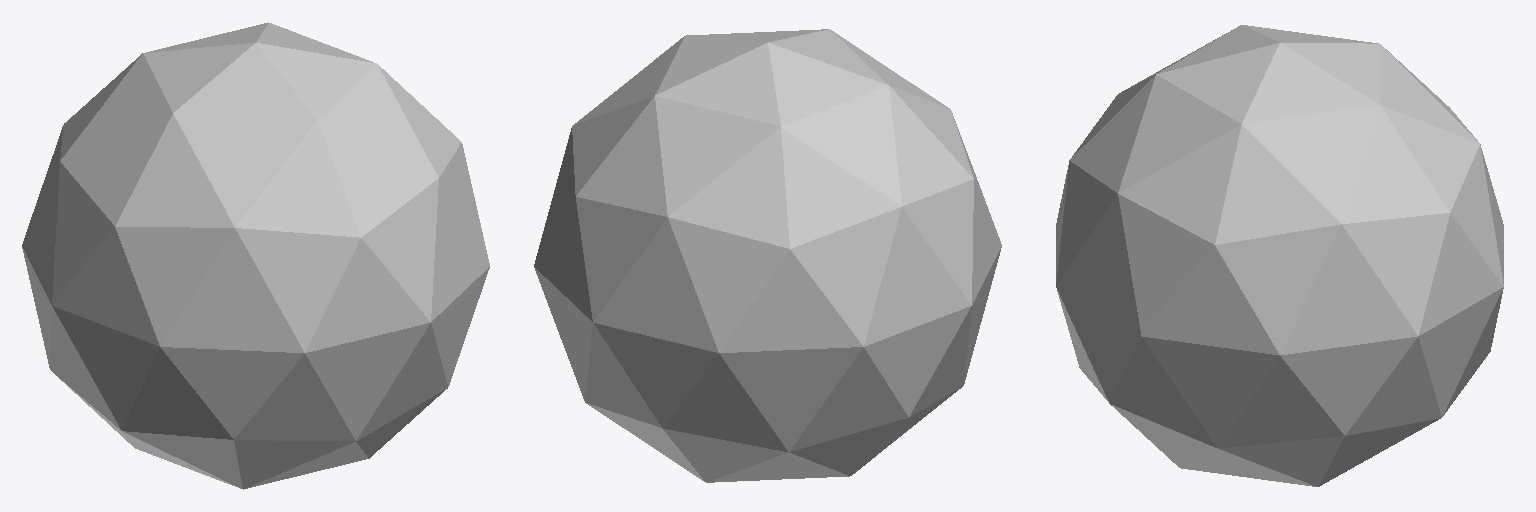
The model's file is firefly3.obj.
The picture shows the model from 3 angles: view 1: azimuth 30°, elevation 25°; view 2: azimuth 150°, elevation 25°; view 3: azimuth 270°, elevation 25°; orthographic projection.
Visible parts, largest first — view 1: Icosphere.019; view 2: Icosphere.019; view 3: Icosphere.019.
Boxes of the visible parts, x1=… form: Icosphere.019: x1=22, y1=22, x2=489, y2=489; Icosphere.019: x1=534, y1=29, x2=1001, y2=482; Icosphere.019: x1=1056, y1=25, x2=1503, y2=486.
Size of the model in its own units: 0.0346 by 0.0346 by 0.0329.